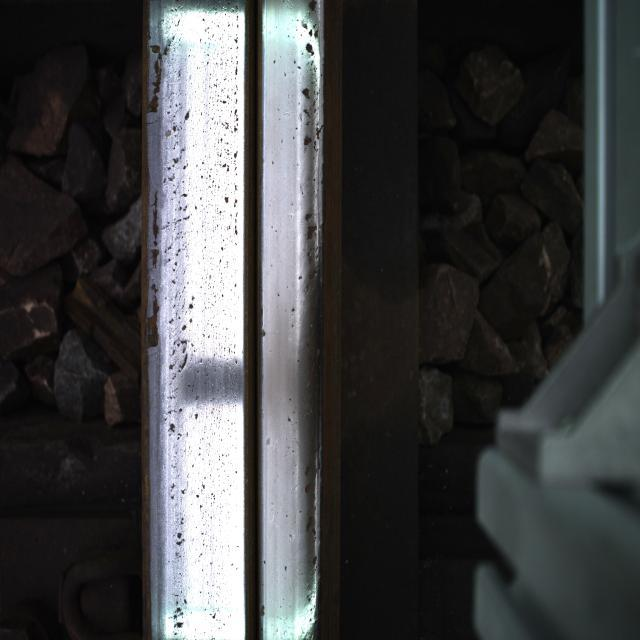scar: (156, 55, 218, 389), (284, 3, 328, 158)
